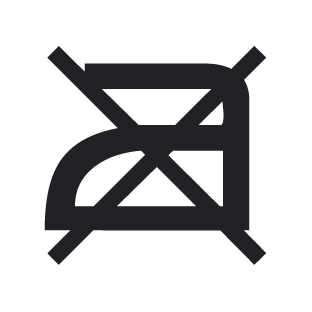do_not_iron: (44, 46, 266, 265)
